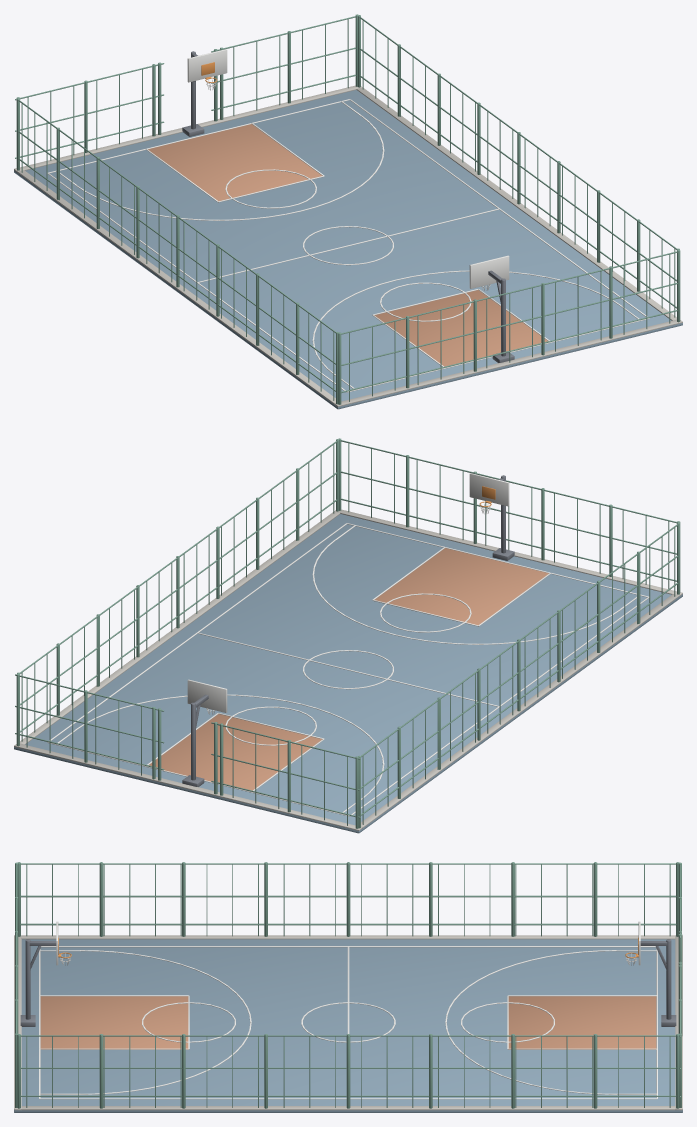
Rendered from th16_basketballplatz.glb.
3 views of the same model, one above another, from view 1: azimuth 30°, elevation 25°; view 2: azimuth 150°, elevation 25°; view 3: azimuth 270°, elevation 25° (orthographic). The views are drawn at different scales.
Parts seen in each view (by area): view 1: Cube, Cube.006, Cube.005, Cube.003, Cube.004, Cube.001, Cube.002, Cube.106, Cube.181, Cube.194, Cube.223, Cube.193 (+8 smaller); view 2: Cube, Cube.005, Cube.006, Cube.003, Cube.004, Cube.002, Cube.001, Cube.181, Cube.106, Cube.194, Cube.223, Cube.193 (+8 smaller); view 3: Cube, Cube.005, Cube.006, Cube.003, Cube.004, Cube.193, Cube.192, Cube.223, Cube.194, Cube.221, Cube.222, Cube.007 (+5 smaller).
Part boxes in pixels (left/top/right/bottom): Cube: left=14, top=90, right=682, bottom=409; Cube.006: left=148, top=124, right=321, bottom=202; Cube.005: left=375, top=290, right=547, bottom=366; Cube.003: left=17, top=170, right=335, bottom=403; Cube.004: left=356, top=87, right=676, bottom=320; Cube.001: left=334, top=319, right=682, bottom=406; Cube.002: left=14, top=85, right=362, bottom=172; Cube.106: left=469, top=255, right=509, bottom=288; Cube.181: left=187, top=49, right=227, bottom=82; Cube.194: left=18, top=100, right=335, bottom=333; Cube.223: left=359, top=17, right=676, bottom=249; Cube.193: left=18, top=131, right=335, bottom=364; Cube: left=14, top=514, right=682, bottom=833; Cube.005: left=375, top=548, right=548, bottom=626; Cube.006: left=149, top=714, right=321, bottom=790; Cube.003: left=361, top=594, right=679, bottom=827; Cube.004: left=20, top=511, right=340, bottom=744; Cube.002: left=14, top=743, right=362, bottom=830; Cube.001: left=334, top=509, right=682, bottom=596; Cube.181: left=187, top=679, right=227, bottom=712; Cube.106: left=469, top=473, right=509, bottom=506; Cube.194: left=361, top=524, right=678, bottom=757; Cube.223: left=20, top=441, right=337, bottom=673; Cube.193: left=361, top=555, right=678, bottom=788; Cube: left=14, top=939, right=682, bottom=1112; Cube.005: left=40, top=996, right=188, bottom=1049; Cube.006: left=508, top=996, right=656, bottom=1049; Cube.003: left=21, top=935, right=675, bottom=939; Cube.004: left=21, top=1106, right=675, bottom=1110; Cube.193: left=20, top=895, right=676, bottom=897; Cube.192: left=20, top=923, right=676, bottom=925; Cube.223: left=20, top=1035, right=676, bottom=1036; Cube.194: left=20, top=863, right=676, bottom=864; Cube.221: left=20, top=1095, right=676, bottom=1096; Cube.222: left=20, top=1067, right=676, bottom=1068; Cube.007: left=41, top=946, right=655, bottom=947.
Size of the model in its own units: 16 by 4.06 by 26.
